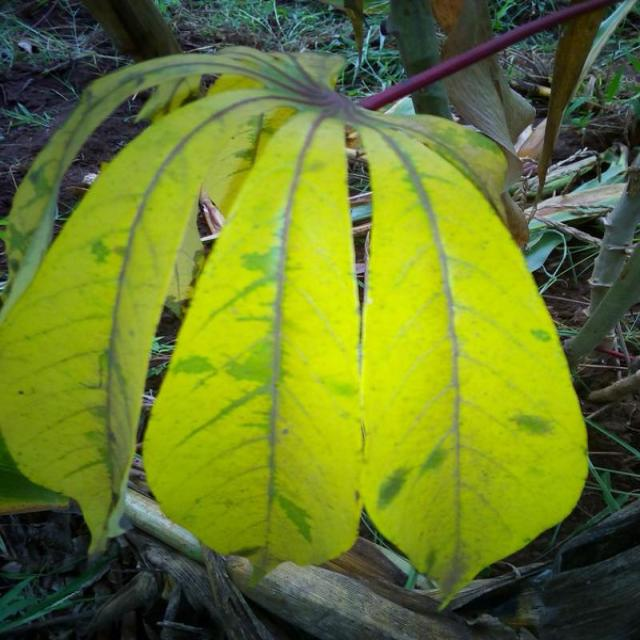cassava leaf: (2, 46, 590, 607), (358, 110, 590, 608), (142, 94, 364, 588)
